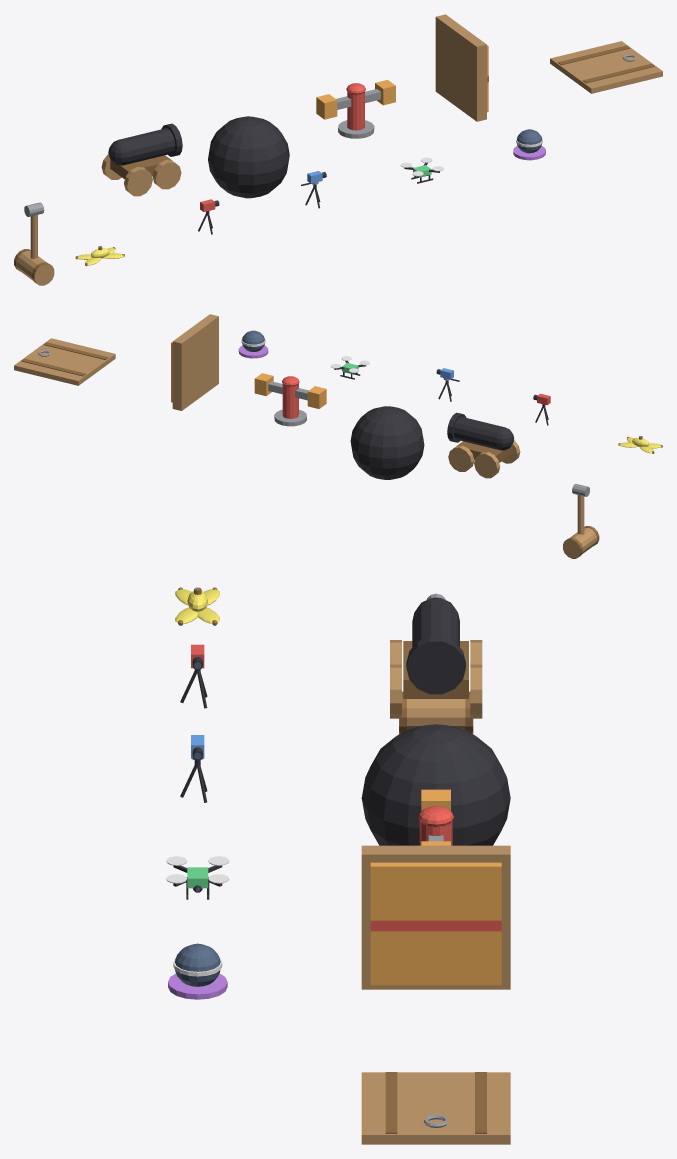
File: traps_cams.glb
The picture shows the model from 3 angles, top to bottom: view 1: azimuth 30°, elevation 25°; view 2: azimuth 150°, elevation 25°; view 3: azimuth 270°, elevation 25°; orthographic projection. The views are drawn at different scales.
Visible parts, largest first — view 1: SM_Trap_CannonBall, SM_Trap_PusherWall, SM_Trap_Cannon, SM_Trap_Trapdoor, SM_Trap_Spinner, SM_Trap_Hammer, SM_Cam_TrapCam, SM_Cam_Follow, SM_Trap_Banana; view 2: SM_Trap_CannonBall, SM_Trap_PusherWall, SM_Trap_Cannon, SM_Trap_Trapdoor, SM_Trap_Spinner, SM_Trap_Hammer, SM_Cam_TrapCam, SM_Trap_Banana, SM_Cam_Follow; view 3: SM_Trap_PusherWall, SM_Trap_CannonBall, SM_Trap_Trapdoor, SM_Trap_Cannon, SM_Cam_TrapCam, SM_Trap_Hammer, SM_Trap_Spinner, SM_Cam_Follow, SM_Trap_Banana.
Boxes of the visible parts, x1,y1,x2,y2 form: SM_Trap_CannonBall: [208, 116, 289, 198]; SM_Trap_PusherWall: [435, 14, 488, 121]; SM_Trap_Cannon: [101, 123, 182, 196]; SM_Trap_Trapdoor: [550, 41, 662, 93]; SM_Trap_Spinner: [316, 80, 395, 138]; SM_Trap_Hammer: [14, 202, 54, 285]; SM_Cam_TrapCam: [513, 129, 545, 160]; SM_Cam_Follow: [400, 157, 443, 183]; SM_Trap_Banana: [75, 246, 124, 266]; SM_Trap_CannonBall: [350, 406, 424, 479]; SM_Trap_PusherWall: [171, 314, 218, 410]; SM_Trap_Cannon: [447, 412, 520, 478]; SM_Trap_Trapdoor: [14, 338, 115, 385]; SM_Trap_Spinner: [254, 373, 326, 426]; SM_Trap_Hammer: [563, 484, 599, 558]; SM_Cam_TrapCam: [238, 330, 268, 358]; SM_Trap_Banana: [618, 436, 662, 453]; SM_Cam_Follow: [330, 356, 369, 379]; SM_Trap_PusherWall: [361, 845, 510, 989]; SM_Trap_CannonBall: [361, 724, 510, 845]; SM_Trap_Trapdoor: [361, 1072, 510, 1144]; SM_Trap_Cannon: [390, 597, 482, 718]; SM_Cam_TrapCam: [168, 943, 227, 999]; SM_Trap_Hammer: [399, 593, 473, 733]; SM_Trap_Spinner: [418, 789, 453, 845]; SM_Cam_Follow: [166, 856, 229, 899]; SM_Trap_Banana: [175, 587, 219, 625].
Bounding box in the file's own units: 8.78 × 1.91 × 2.31.
